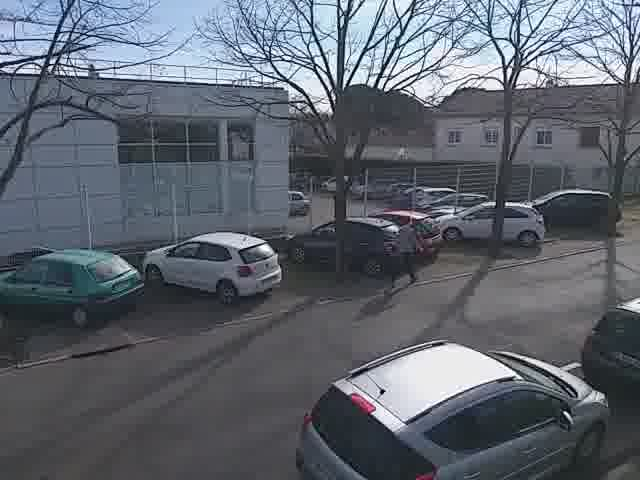persona: (388, 202, 426, 287)
